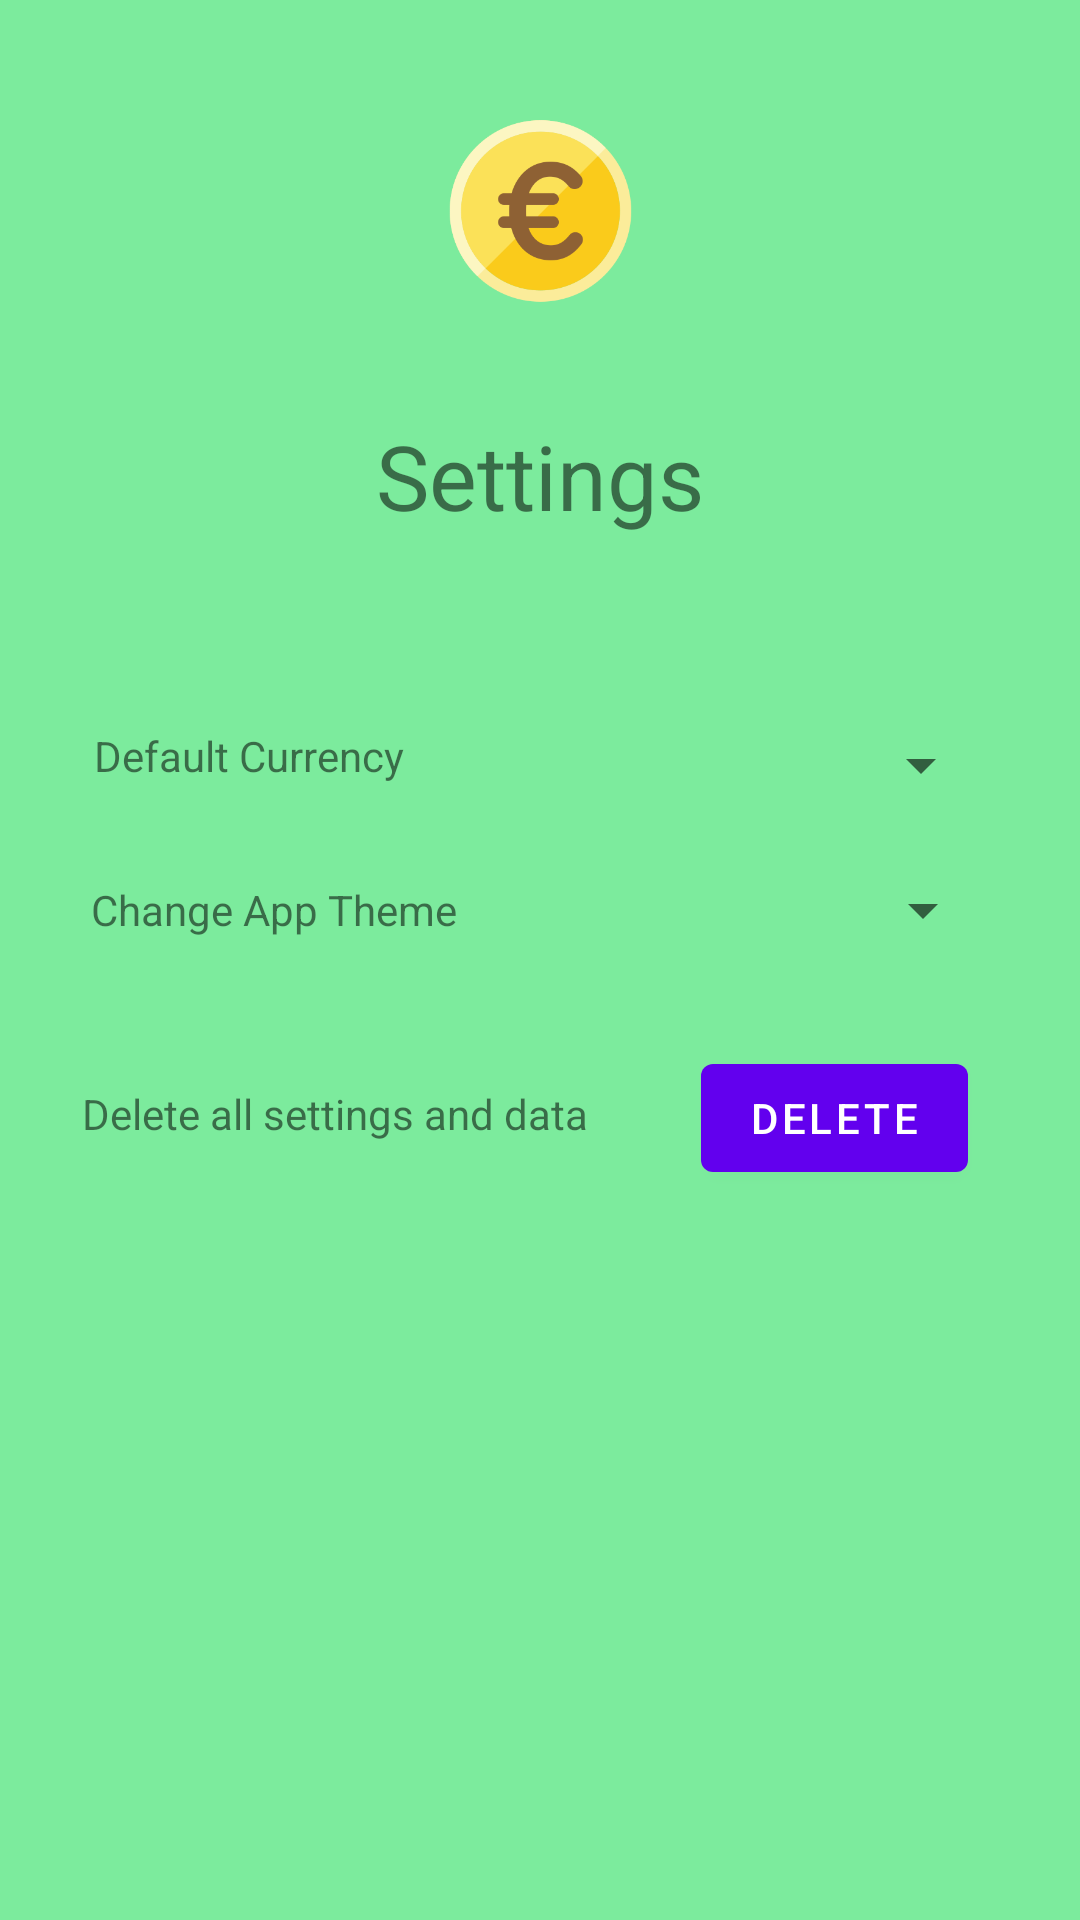

Icon bounding boxes for this 1080w x 1920h phone screenshot, format Rect(x1, y1, x2, y2):
eurocoin: Rect(450, 120, 631, 302)
